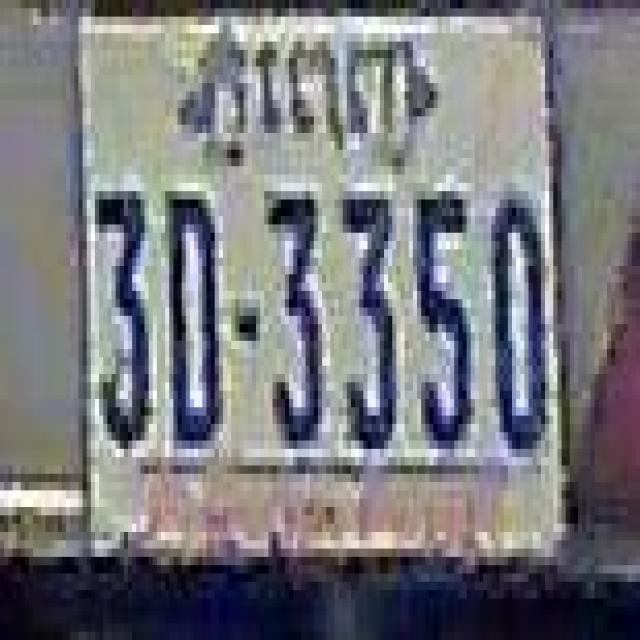Phnom_Penh: (194, 25, 421, 177)
